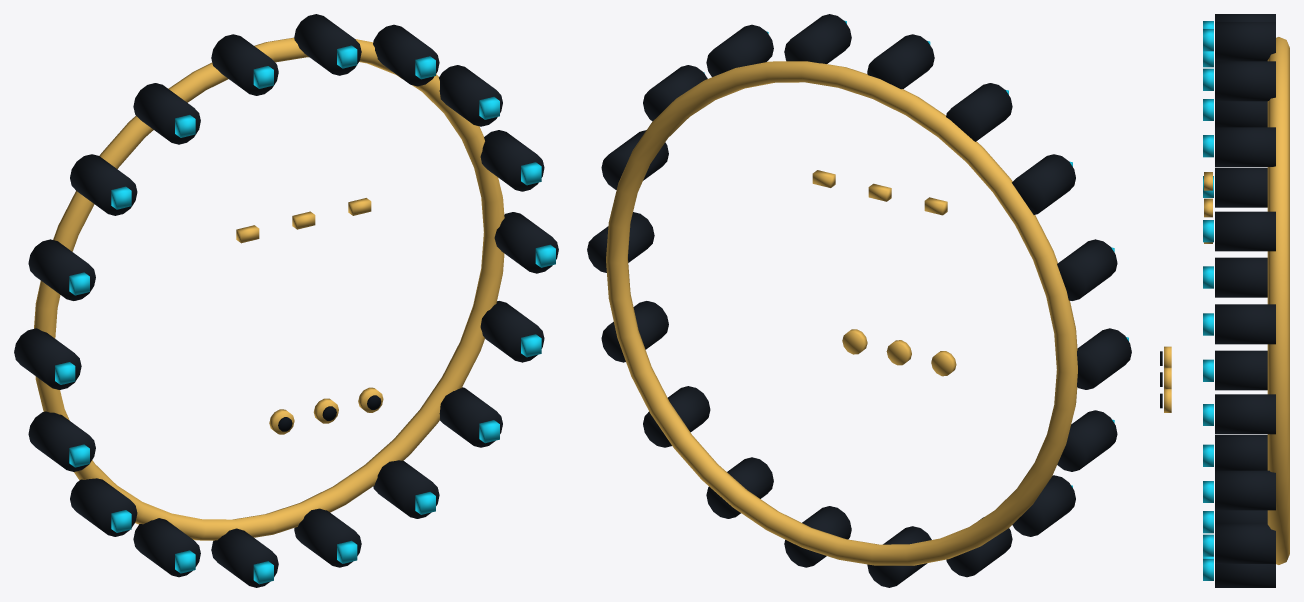
The model's file is 20_L93_CTSourceShieldedHousing.fbx.
3 renders of one model, left to right at view 1: azimuth 30°, elevation 25°; view 2: azimuth 150°, elevation 25°; view 3: azimuth 270°, elevation 25°, orthographic. The views are drawn at different scales.
Visible parts, largest first — view 1: L92_CTSourceShieldedHousing_Part_0001, L92_CTSourceShieldedHousing_Part_0000, L92_CTSourceShieldedHousing_Part_0002, L92_CTSourceShieldedHousing_Part_0003; view 2: L92_CTSourceShieldedHousing_Part_0001, L92_CTSourceShieldedHousing_Part_0000, L92_CTSourceShieldedHousing_Part_0003; view 3: L92_CTSourceShieldedHousing_Part_0001, L92_CTSourceShieldedHousing_Part_0000, L92_CTSourceShieldedHousing_Part_0002, L92_CTSourceShieldedHousing_Part_0003, L92_CTSourceShieldedHousing_Part_0008.
Boxes of the visible parts, bbox=[...] form: L92_CTSourceShieldedHousing_Part_0001: bbox=[14, 14, 558, 587]; L92_CTSourceShieldedHousing_Part_0000: bbox=[34, 37, 504, 540]; L92_CTSourceShieldedHousing_Part_0002: bbox=[55, 45, 555, 584]; L92_CTSourceShieldedHousing_Part_0003: bbox=[236, 198, 371, 243]; L92_CTSourceShieldedHousing_Part_0001: bbox=[587, 14, 1131, 587]; L92_CTSourceShieldedHousing_Part_0000: bbox=[606, 61, 1077, 565]; L92_CTSourceShieldedHousing_Part_0003: bbox=[812, 170, 947, 215]; L92_CTSourceShieldedHousing_Part_0001: bbox=[1215, 14, 1275, 587]; L92_CTSourceShieldedHousing_Part_0000: bbox=[1267, 37, 1289, 564]; L92_CTSourceShieldedHousing_Part_0002: bbox=[1203, 21, 1213, 580]; L92_CTSourceShieldedHousing_Part_0003: bbox=[1204, 172, 1212, 243]; L92_CTSourceShieldedHousing_Part_0008: bbox=[1164, 389, 1171, 412].
Bounding box in the file's own units: 312 × 307 × 70.2.
